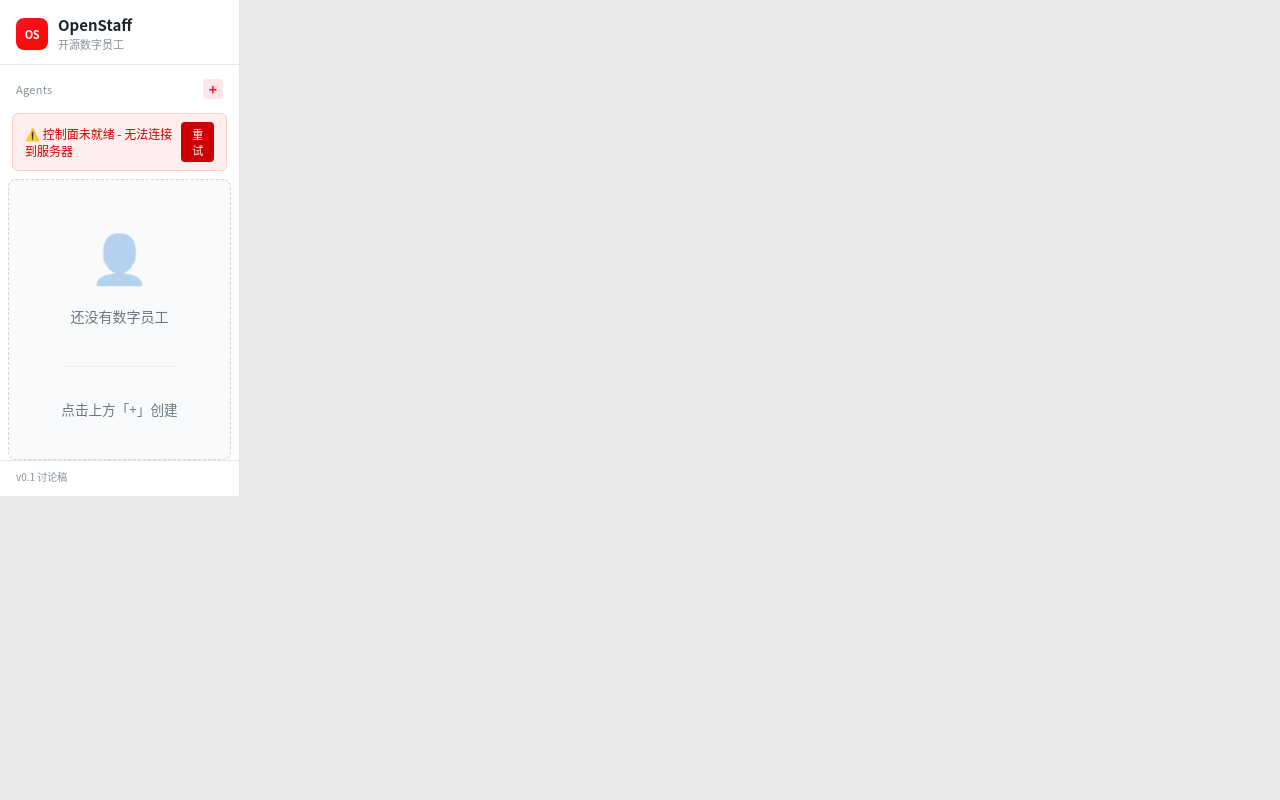
Test: Create Agent Wizard Contract Tests (§15) › Wizard Entry › should open wizard when clicking "+" button in sidebar
Click the button named "创建 Agent" at coordinates (213, 89), box [203,79,223,99]
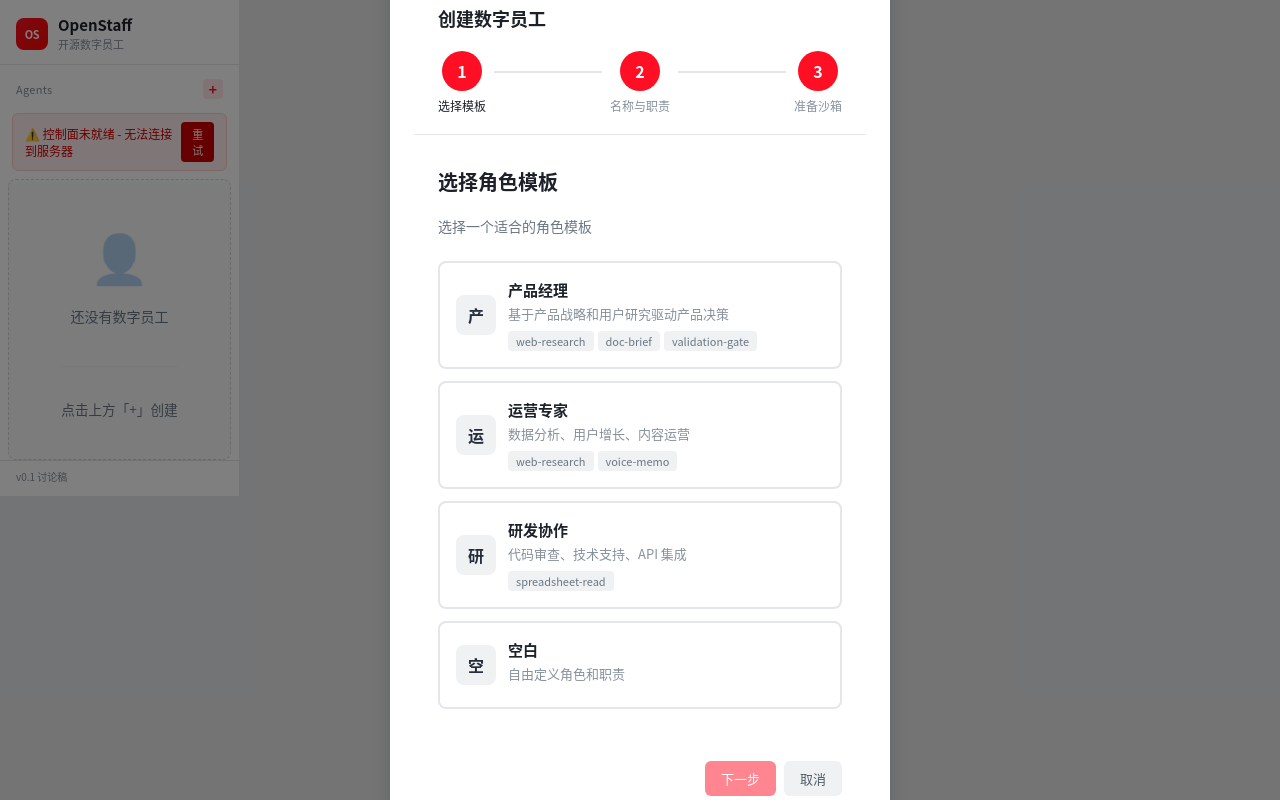
Expected: the heading "创建数字员工" is shown, [438,4,546,30]
